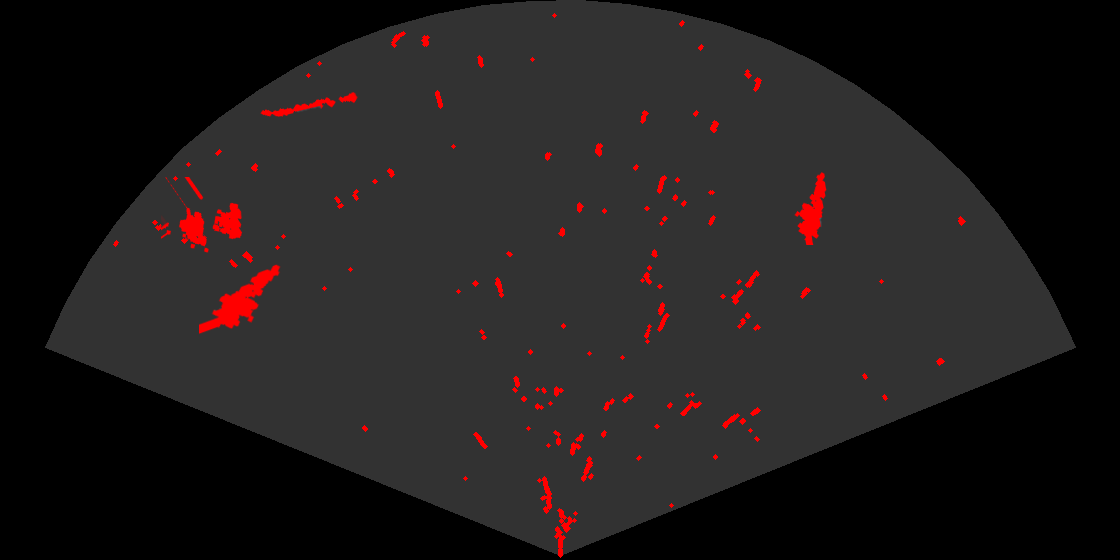cage: (161, 177, 244, 254)
chain: (259, 91, 360, 118)
frogman: (199, 263, 282, 336), (793, 171, 828, 245)
